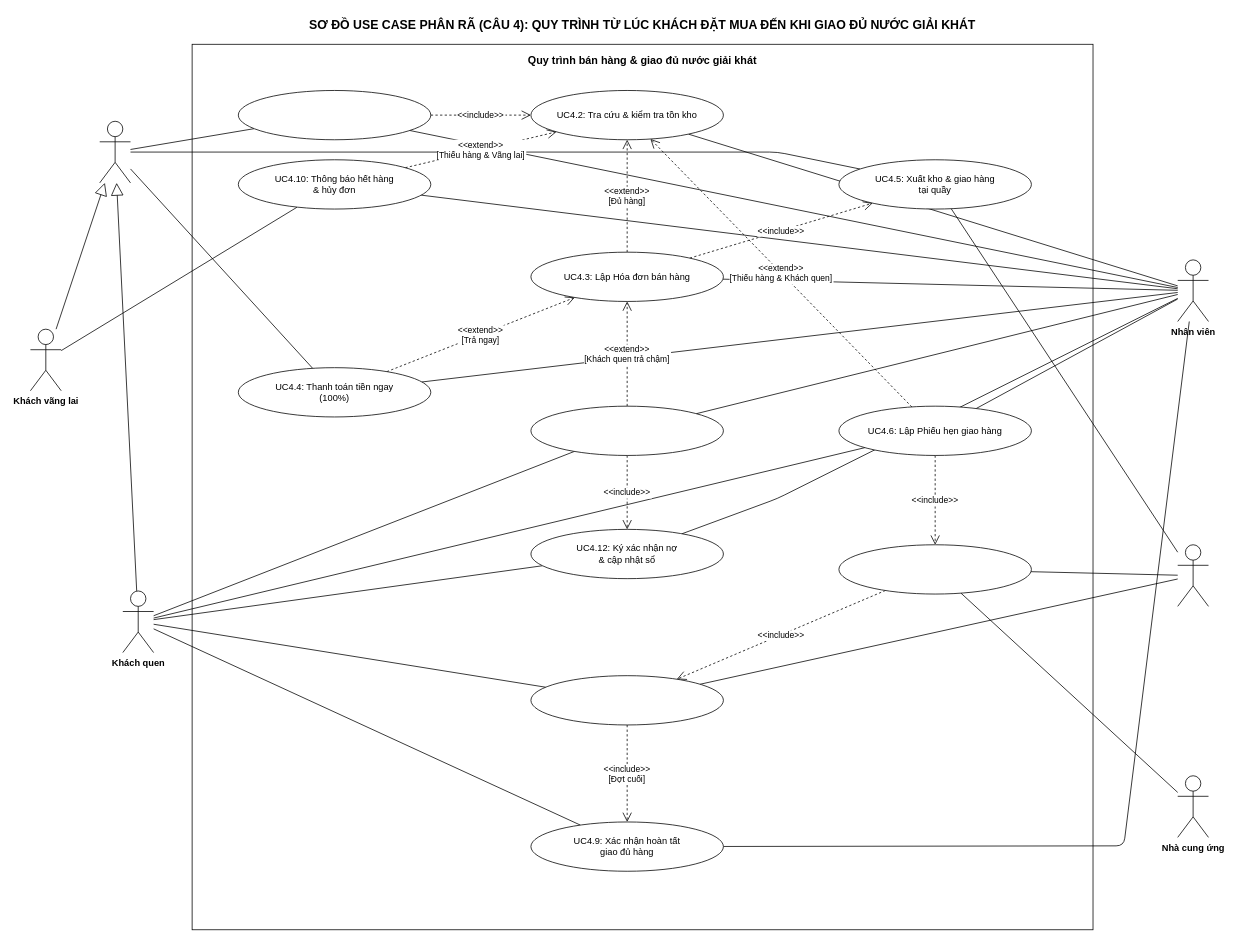
Image size: 1237x943. Some labels were removed from this diagram. Here are the shapes that lost their labels. From the top down, the centre of each, then its label:
(334,115): UC4.1: Tiếp nhận yêu cầu mua NGK
(115,152): Khách hàng
(626,430): UC4.11: Lập Phiếu ghi nợ (trả chậm)
(934,569): UC4.7: Tiếp nhận NGK từ ĐĐH NCC
(1193,575): Thủ kho
(626,700): UC4.8: Giao hàng từng đợt theo lịch hẹn
